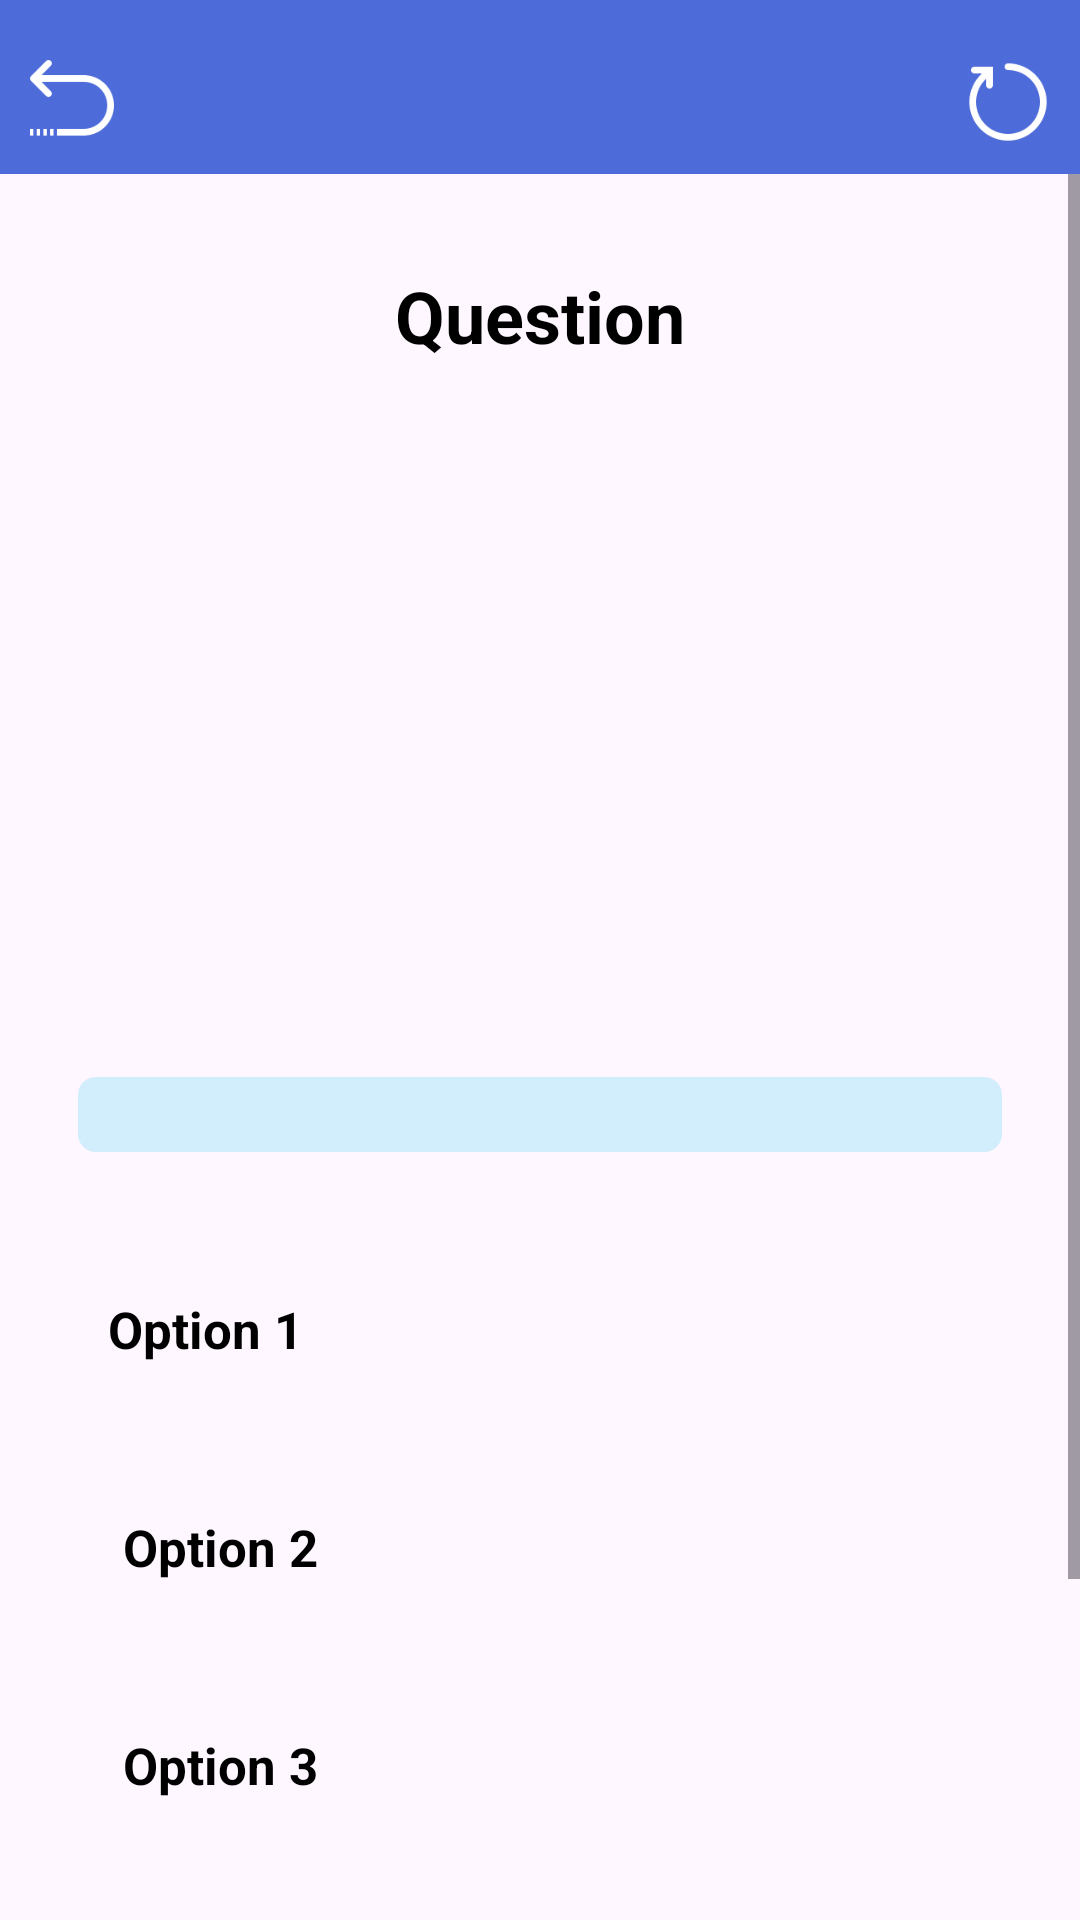

Screen size 1080x1920. Icon name, then its center in pixels as (x=x, y=y):
restart: (x=1008, y=102)
